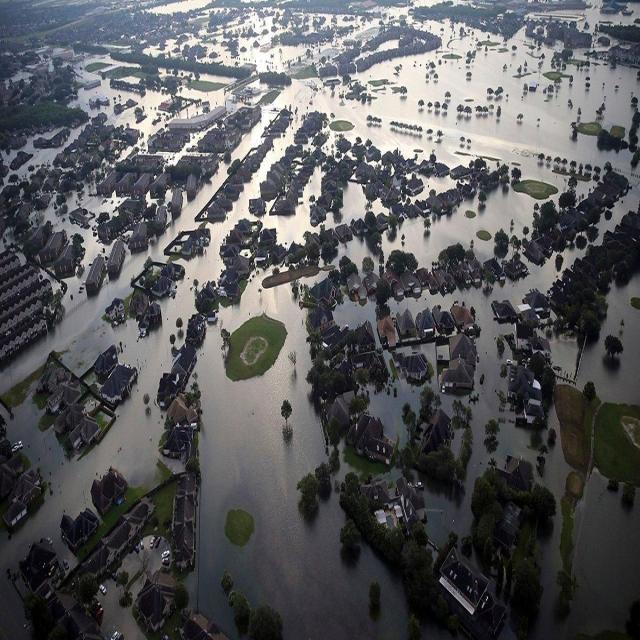flooded_areas: (306, 87, 640, 639), (0, 72, 302, 626)
